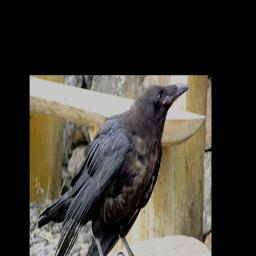Crow: (37, 82, 190, 256)
